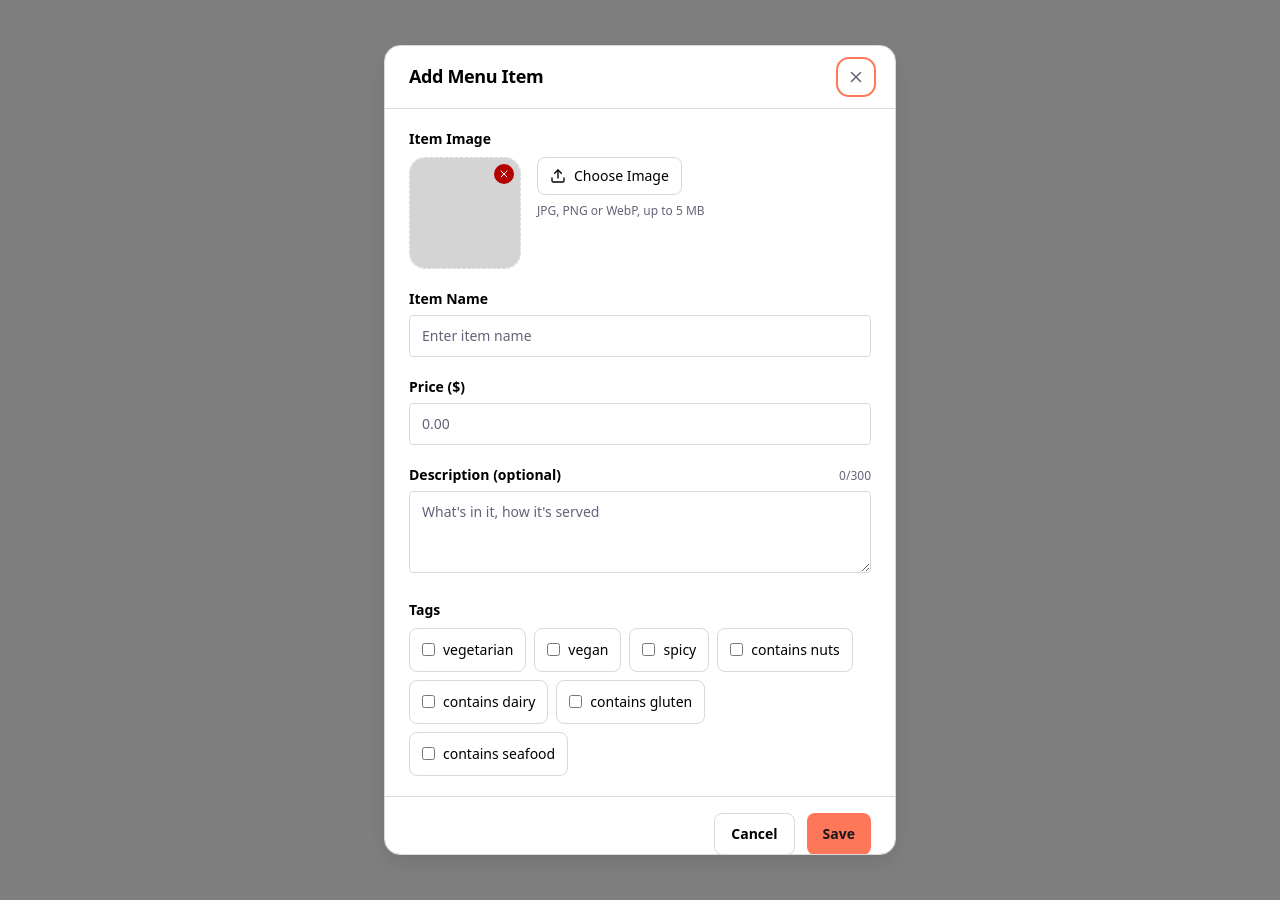
Scenario: adding an item with a photo (PHOTOS-S3) › the upload expired before it was confirmed: the server's message
Earlier steps of the test are not shown.
Type "Fish Amok" into the field with placeholder "Enter item name".
click(640, 336); type("Fish Amok")  # box 409,315 -> 871,357
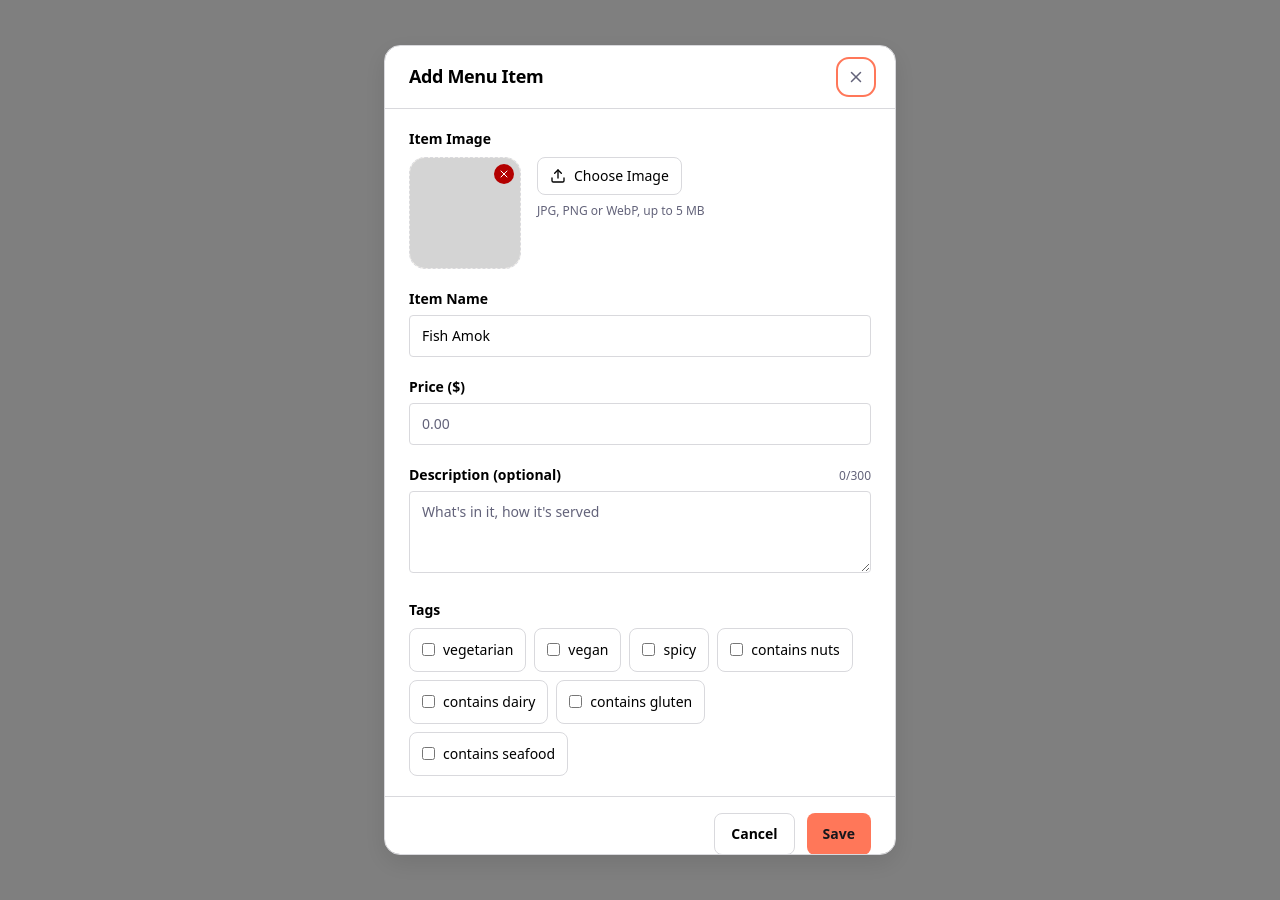
Type "5.5" into the number field with placeholder "0.00".
click(640, 424); type("5.5")  # box 409,403 -> 871,445
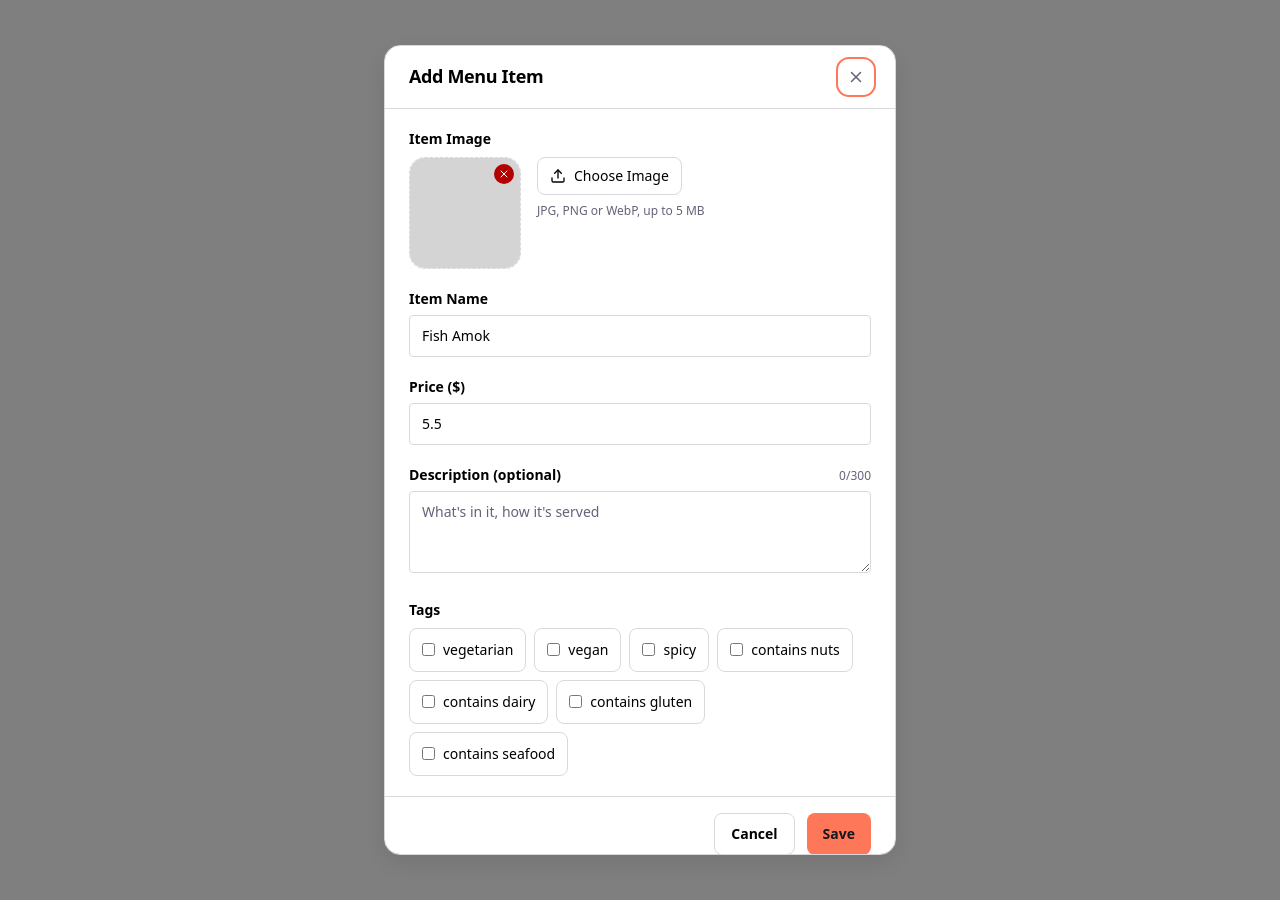
Click the button "Save".
click(839, 834)  # box 807,813 -> 871,855
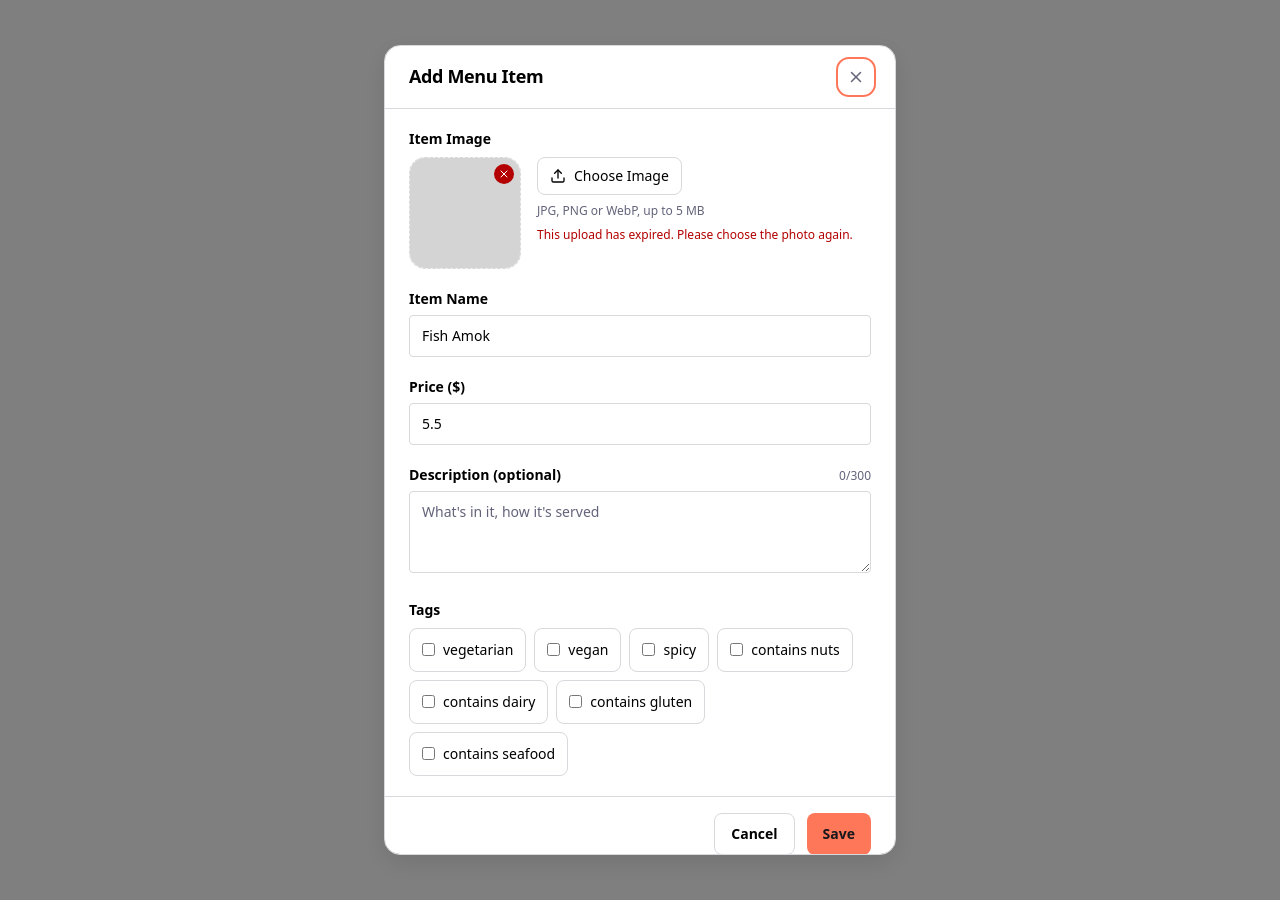
Now the message shows "This upload has expired", box 537,226 -> 853,243
